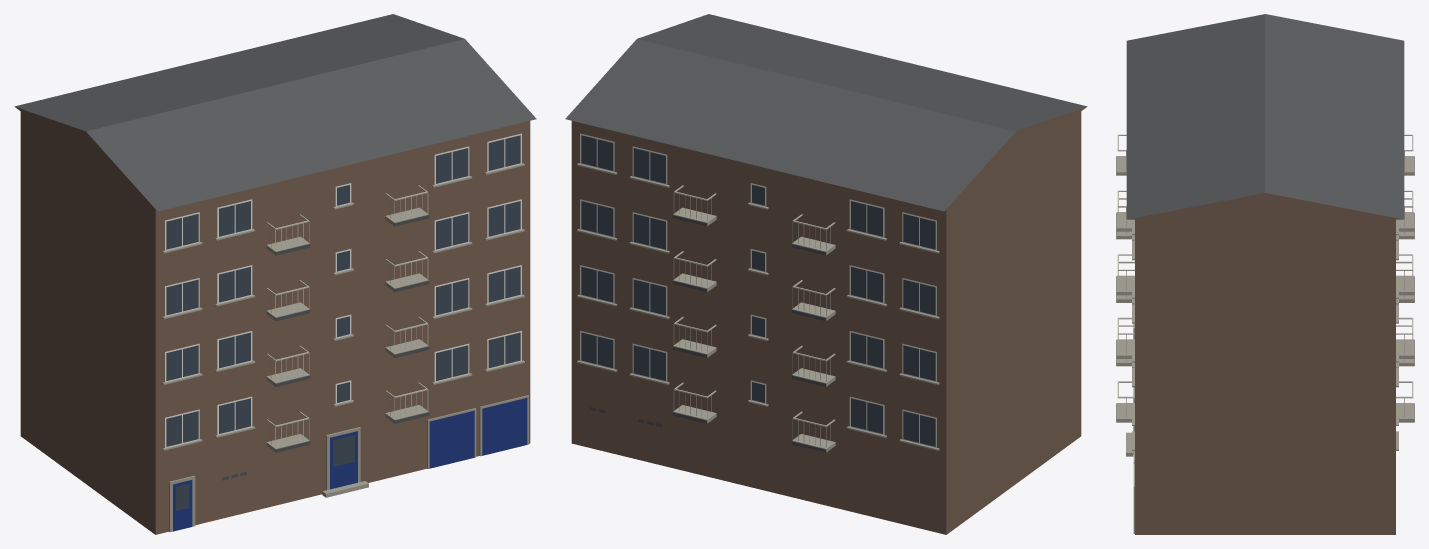
File: nw-canopy-core-garage-brick__brick-canopy__5__gable__long__solid.glb
3 renders of one model, left to right at view 1: azimuth 30°, elevation 25°; view 2: azimuth 150°, elevation 25°; view 3: azimuth 270°, elevation 25°, orthographic. The views are drawn at different scales.
Parts seen in each view (by area): view 1: nw-canopy-core-garage-brick__brick-canopy__5__gable__long__s; view 2: nw-canopy-core-garage-brick__brick-canopy__5__gable__long__s; view 3: nw-canopy-core-garage-brick__brick-canopy__5__gable__long__s.
Boxes of the visible parts, x1,y1,x2,y2 form: nw-canopy-core-garage-brick__brick-canopy__5__gable__long__s: (14,14,536,534); nw-canopy-core-garage-brick__brick-canopy__5__gable__long__s: (565,14,1087,534); nw-canopy-core-garage-brick__brick-canopy__5__gable__long__s: (1116,14,1414,534).
Bounding box in the file's own units: 17.66 × 15.79 × 12.45.
